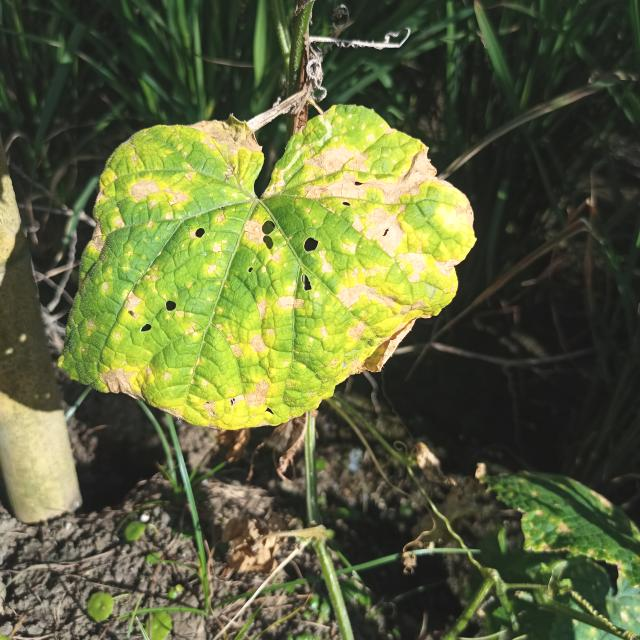disease_cucumber: (58, 114, 470, 424)
